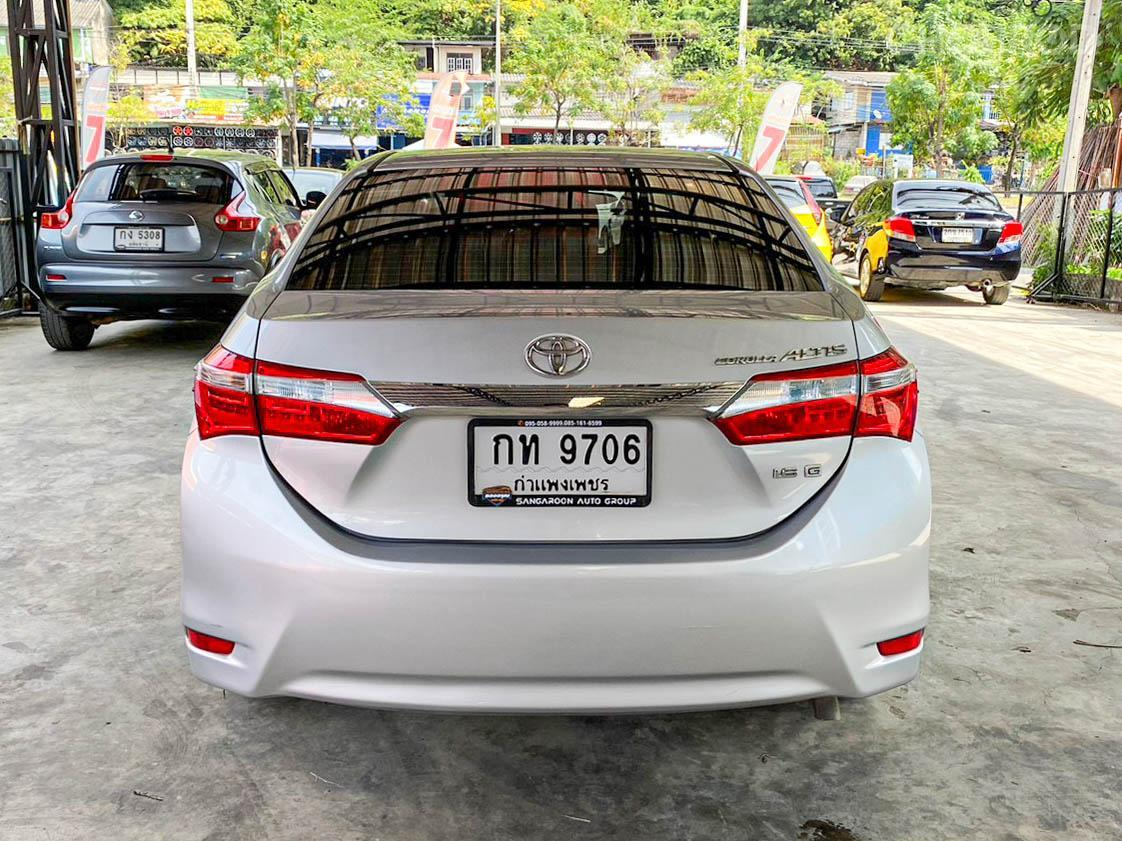license-plate: (463, 408, 653, 513)
